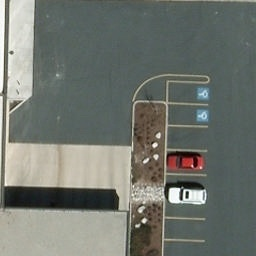car: (168, 186, 209, 209), (168, 154, 205, 171)
